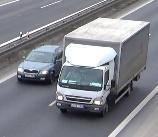Car: (16, 45, 66, 85)
Truck: (56, 17, 150, 117)
